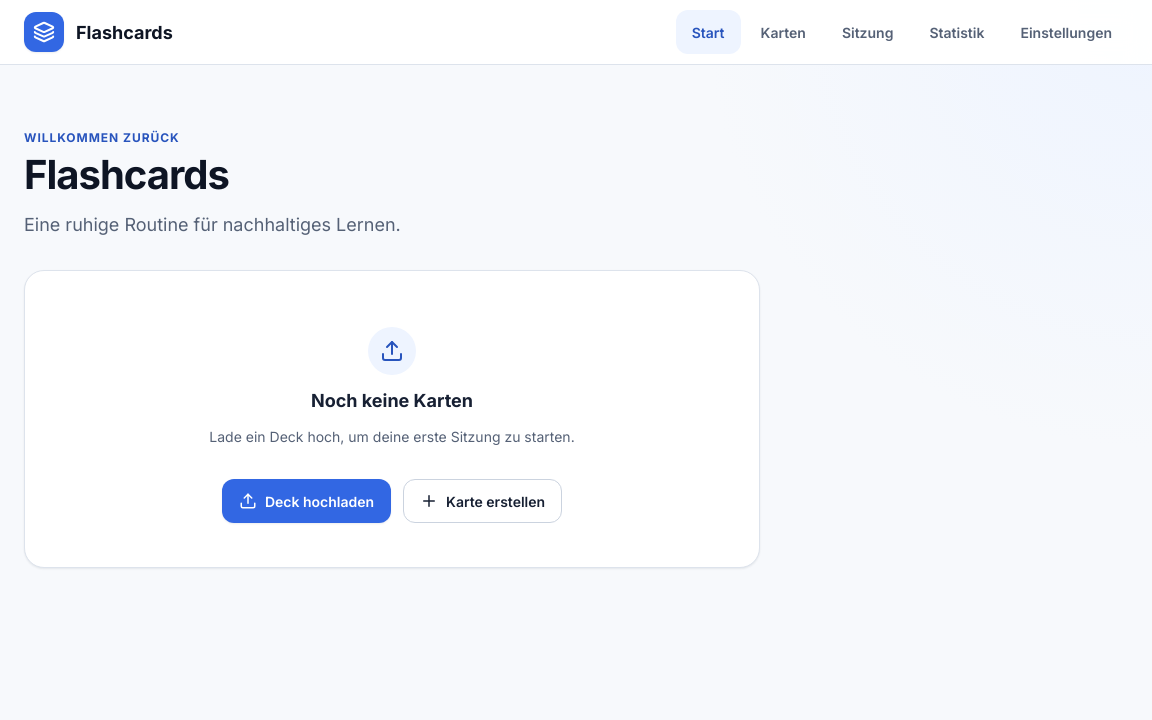
Test case: the picked language survives a reload and wins over the browser language
Earlier steps of the test are not shown.
Step 1. Click the button "Einstellungen" → [1066, 32], box [1004, 10, 1128, 54]
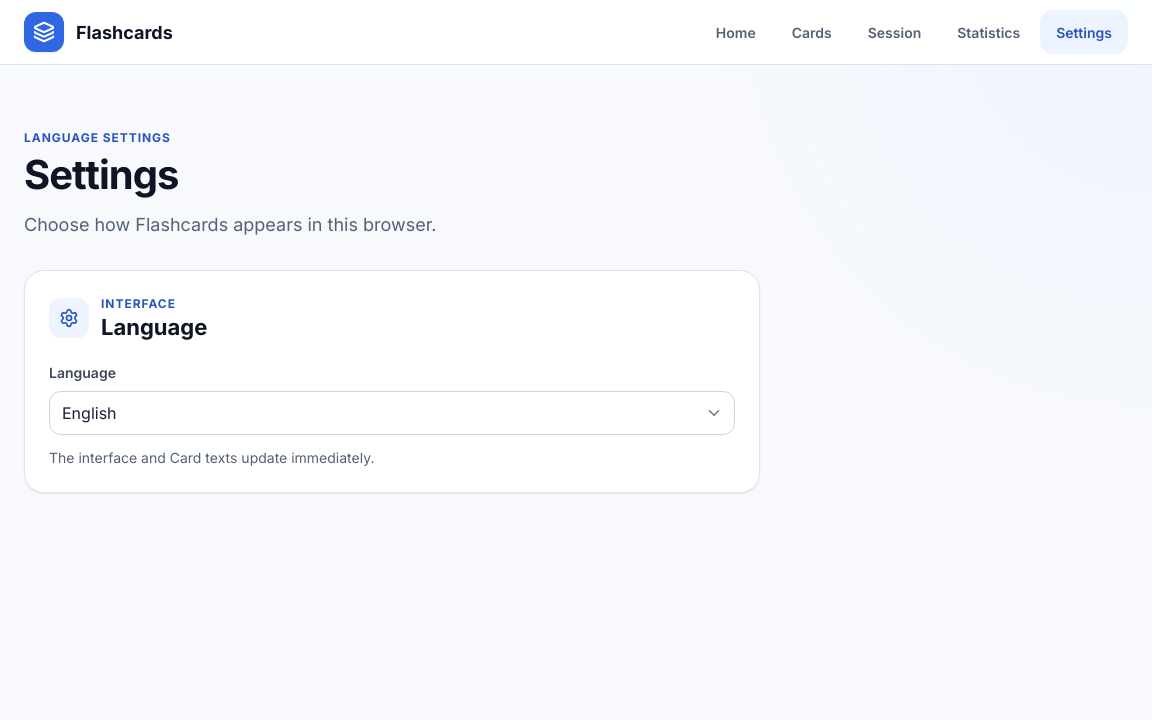
Expected: the dropdown labelled "Language" shows "English", [49, 391, 735, 435]
